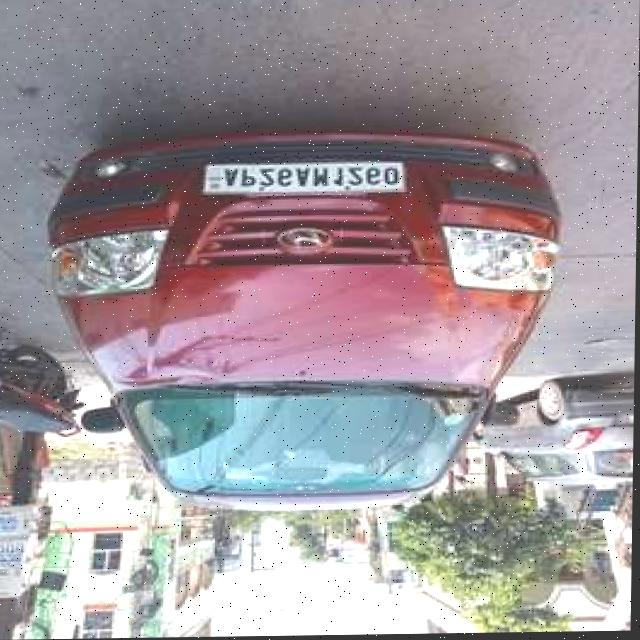plate: (204, 160, 407, 196)
